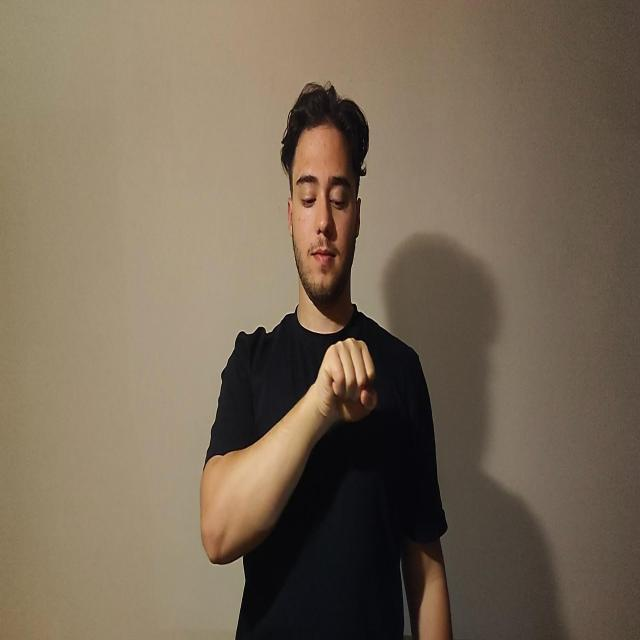yes: (315, 336, 378, 425)
